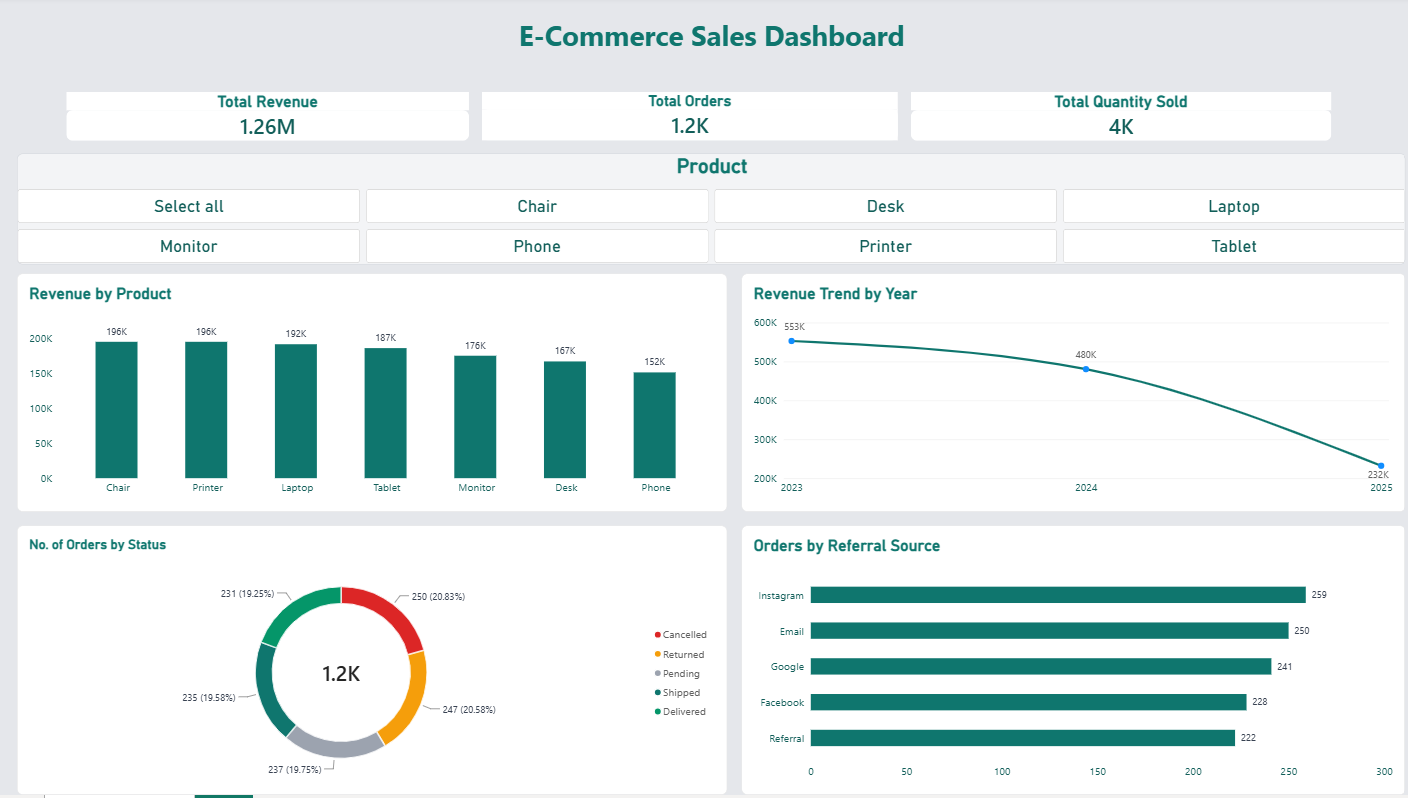

What the dashboard file says about the page in this screenshot:
{"tool":"powerbi","page":{"name":"Dashboard","canvas":[1920,1080],"ordinal":0},"visuals":[{"type":"clusteredColumnChart","title":"Revenue by Product","fields":{"Category":["Table1.Product"],"Y":["Sum(Table1.Total Price)"]},"box":[28,376,960,322],"z":0},{"type":"lineChart","title":"Revenue Trend by Year","fields":{"Category":["Table1.Date.Variation.Date Hierarchy.Year","Table1.Date.Variation.Date Hierarchy.Quarter","Table1.Date.Variation.Date Hierarchy.Month","Table1.Date.Variation.Date Hierarchy.Day"],"Y":["Sum(Table1.Total Price)"]},"box":[1008,376,898,322],"z":1000},{"type":"donutChart","title":"No. of Orders by Status","fields":{"Category":["Table1.Order Status"],"Y":["CountNonNull(Table1.OrderID)"]},"box":[28,716,960,364],"z":2000},{"type":"clusteredBarChart","title":"Orders by Referral Source","fields":{"Category":["Table1.Referral Source"],"Y":["CountNonNull(Table1.OrderID)"]},"box":[1008,716,898,364],"z":3000},{"type":"cardVisual","title":"Total Quantity Sold","fields":{"Data":["Sum(Table1.Quantity)"]},"box":[1236,130,568,66],"z":6000},{"type":"cardVisual","title":"Total Revenue","fields":{"Data":["Sum(Table1.Total Price)"]},"box":[96,130,544,66],"z":6001},{"type":"cardVisual","title":"Total Orders","fields":{"Data":["CountNonNull(Table1.OrderID)"]},"box":[656,130,562,66],"z":6002},{"type":"advancedSlicerVisual","fields":{"Values":["Table1.Product"]},"box":[28,212,1878,150],"z":6003},{"type":"textbox","box":[28,0,1878,110],"z":6004}]}

Visuals, with their boxes in screenshot pixels (x1, y1, x2, y2), scaled from the page's 1920x1080 canvas onto the 1408x798 screenshot:
"Revenue by Product" clusteredColumnChart: select_region(21, 278, 725, 516)
"Revenue Trend by Year" lineChart: select_region(739, 278, 1398, 516)
"No. of Orders by Status" donutChart: select_region(21, 529, 725, 797)
"Orders by Referral Source" clusteredBarChart: select_region(739, 529, 1398, 797)
"Total Quantity Sold" cardVisual: select_region(906, 96, 1323, 145)
"Total Revenue" cardVisual: select_region(70, 96, 469, 145)
"Total Orders" cardVisual: select_region(481, 96, 893, 145)
advancedSlicerVisual - Table1.Product: select_region(21, 157, 1398, 267)
textbox: select_region(21, 0, 1398, 81)
